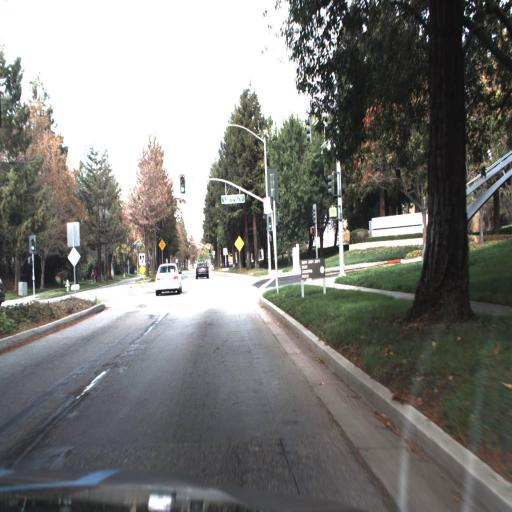car: (154, 259, 182, 297), (194, 260, 210, 282)
trafficLight-Green: (178, 174, 186, 195), (267, 213, 272, 232)
